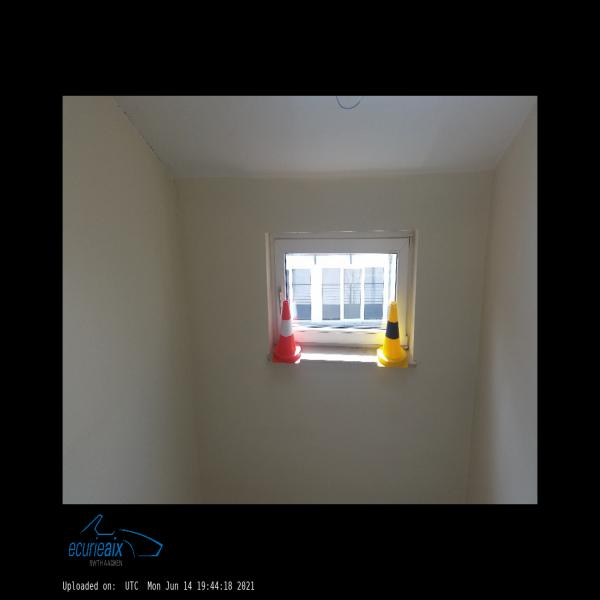orange_cone: (273, 301, 301, 363)
yellow_cone: (376, 302, 408, 367)
